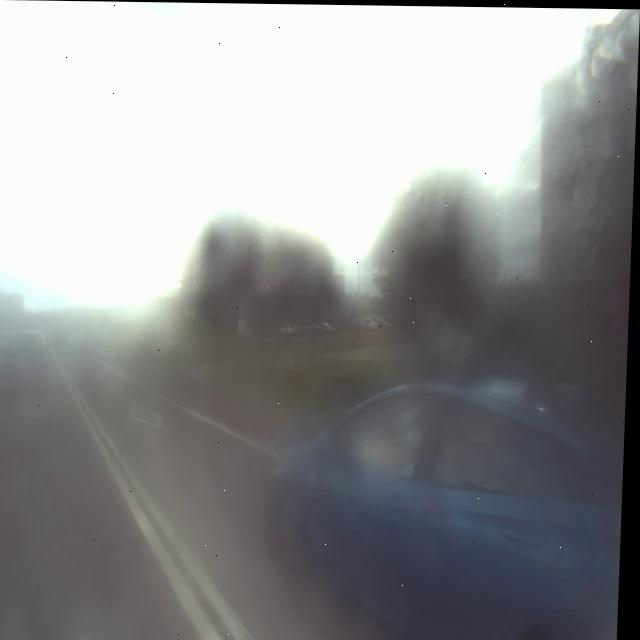car: (243, 308, 631, 632)
